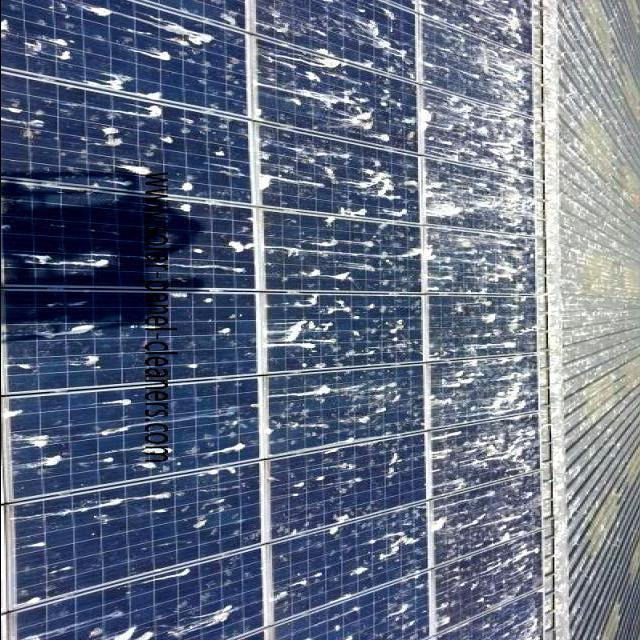soiled: (0, 1, 538, 640)
